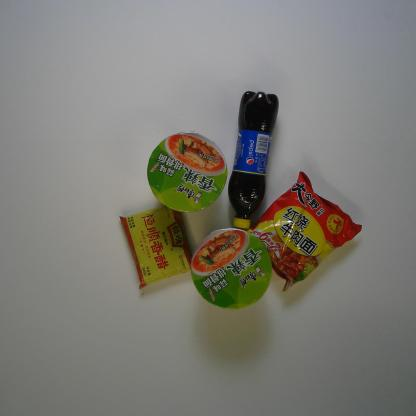Drink: (226, 89, 280, 230)
Instant Noodles: (245, 170, 363, 295), (189, 227, 273, 311), (146, 130, 229, 214)
Seasoner: (118, 204, 193, 290)
